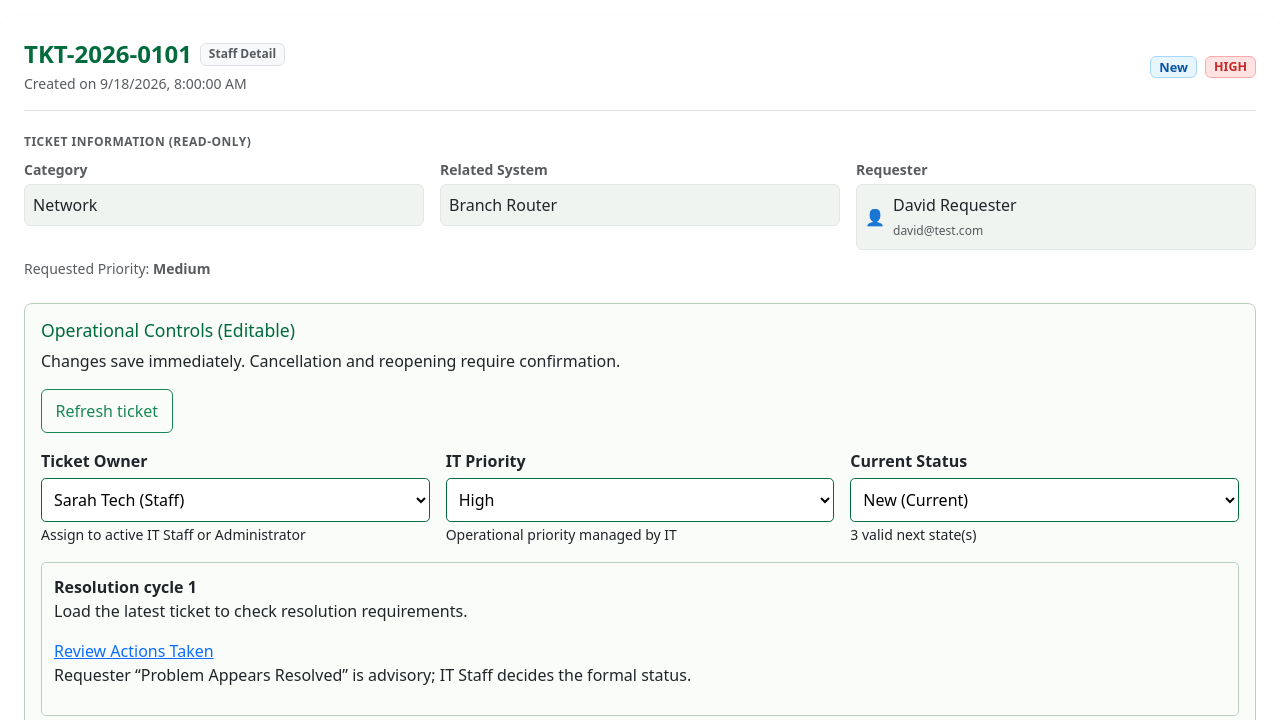
Test: StaffTicketDetail Component (Lab 3) › Status Transition Edge Cases & Error Feedback › displays inline error message when status update fails (e.g. 409 conflict)
Step 1. Select "→ Move to In Progress" in the dropdown with test id "editable-status-select" → (1045, 500), box [850,478,1239,522]
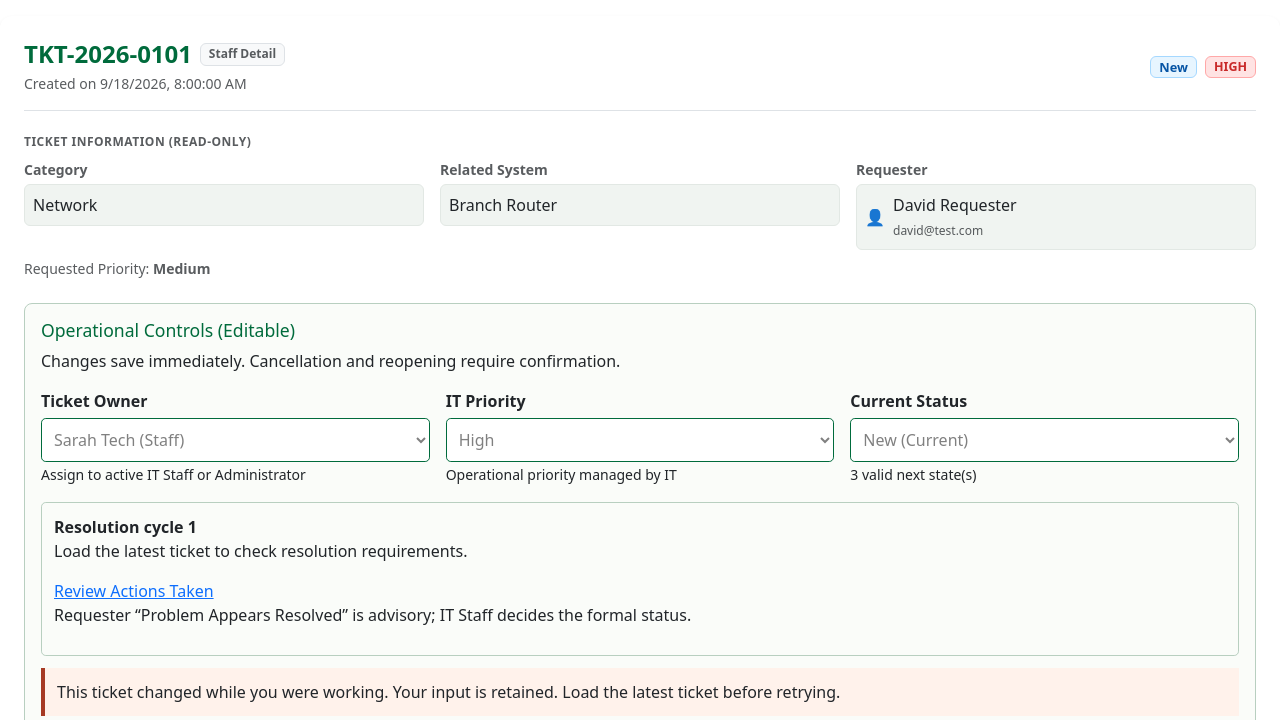
expect the message with test id "status-error-message" is shown: met, box [41,668,1239,716]
expect the message with test id "status-error-message" shows "This ticket changed while you were working.": met, box [57,681,840,703]
